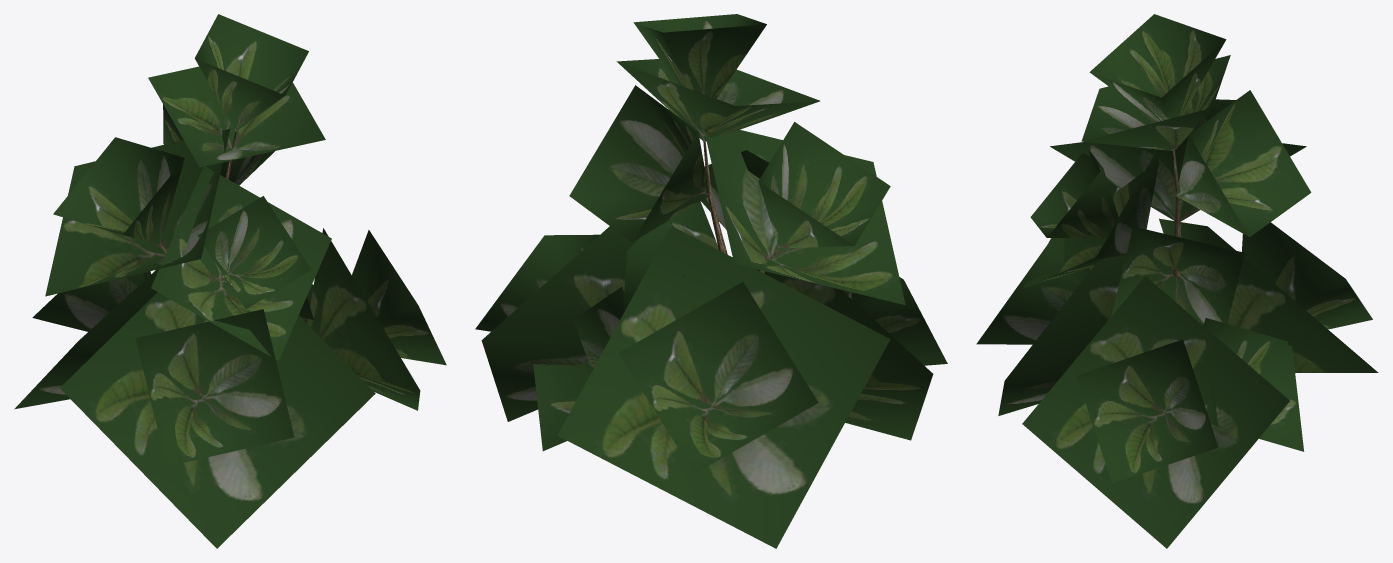
The model's file is leaf_palmbush_a2_l0.fbx.
The picture shows the model from 3 angles, left to right: view 1: azimuth 30°, elevation 25°; view 2: azimuth 150°, elevation 25°; view 3: azimuth 270°, elevation 25°; orthographic projection. The views are drawn at different scales.
Parts seen in each view (by area): view 1: mesh_node; view 2: mesh_node; view 3: mesh_node.
Boxes of the visible parts, x1,y1,x2,y2 form: mesh_node: [14, 14, 446, 548]; mesh_node: [475, 14, 947, 548]; mesh_node: [976, 14, 1378, 548].
Bounding box in the file's own units: 1.77 × 2 × 1.61.
